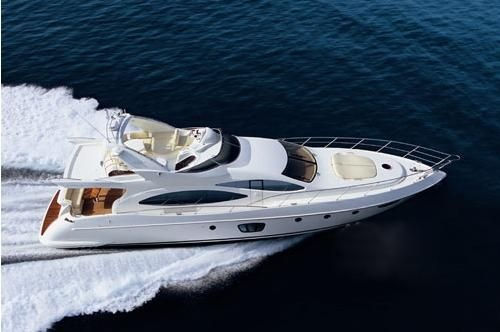yacht: (33, 114, 461, 251)
